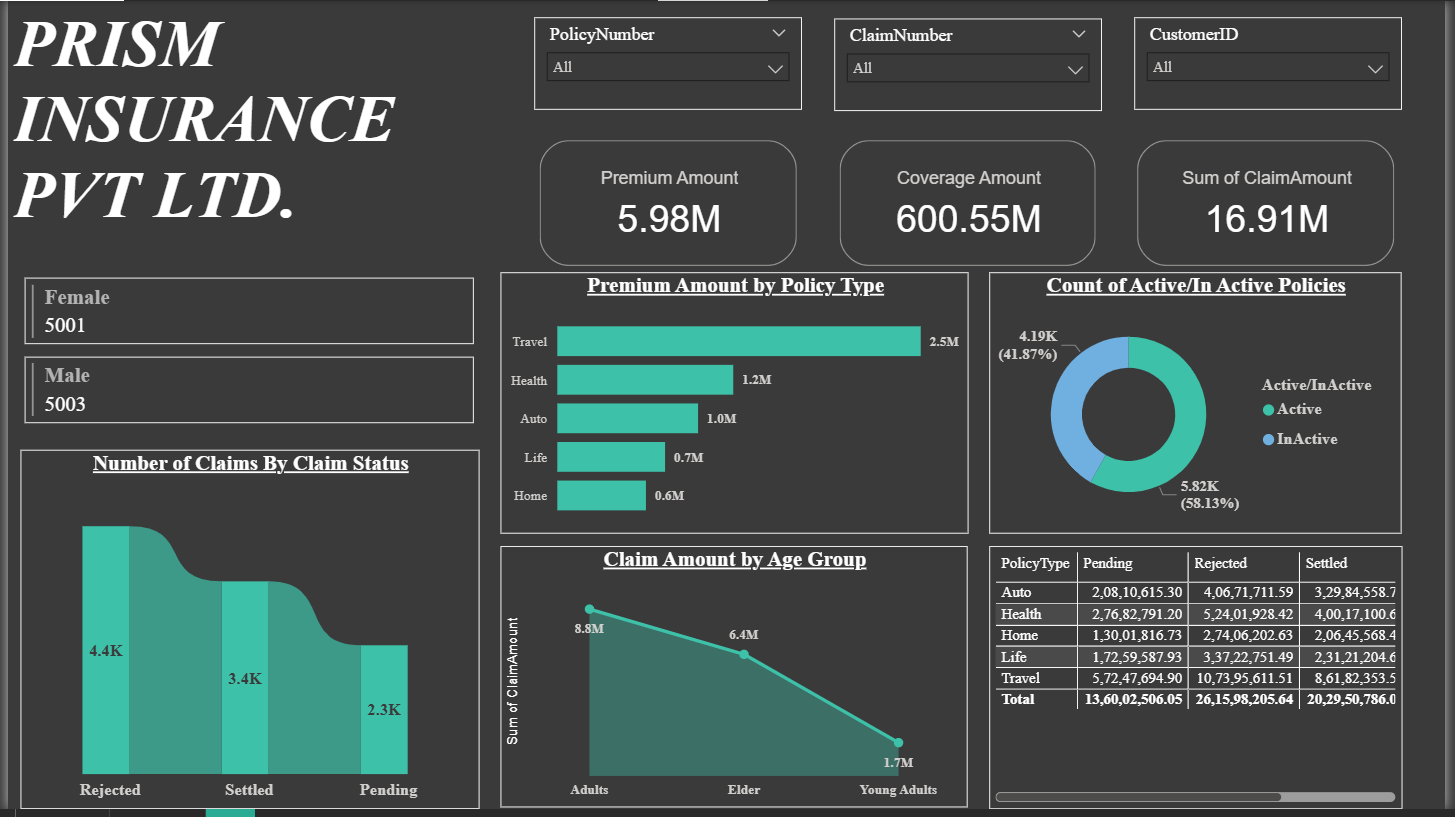

Layout of this report page (visuals, bound fields, positions):
{"tool":"powerbi","page":{"name":"Page 1","canvas":[1280,720],"ordinal":0},"visuals":[{"type":"slicer","fields":{"Values":["InsuranceData.PolicyNumber"]},"box":[468.7,14.7,238,82.2],"z":0},{"type":"slicer","fields":{"Values":["InsuranceData.ClaimNumber"]},"box":[736.2,16,238,82.2],"z":1000},{"type":"slicer","fields":{"Values":["InsuranceData.CustomerID"]},"box":[1002.5,14.7,238,82.2],"z":2000},{"type":"textbox","box":[0,0,438,213.5],"z":3000},{"type":"cardVisual","fields":{"Data":["Sum(InsuranceData.PremiumAmount)"]},"box":[468.7,119,239.3,122.7],"z":4000},{"type":"cardVisual","fields":{"Data":["Sum(InsuranceData.CoverageAmount)"]},"box":[736.2,119,238,122.7],"z":5000},{"type":"cardVisual","fields":{"Data":["Sum(InsuranceData.ClaimAmount)"]},"box":[1001.2,119,239.3,122.7],"z":6000},{"type":"multiRowCard","fields":{"Values":["InsuranceData.Gender","CountNonNull(InsuranceData.Gender)"]},"box":[9.8,241.7,409.8,158.3],"z":7000},{"type":"ribbonChart","title":"Number of Claims By Claim Status","fields":{"Category":["InsuranceData.ClaimStatus"],"Y":["CountNonNull(InsuranceData.ClaimStatus)"]},"box":[11,400,408.6,320.2],"z":8000},{"type":"barChart","title":"Premium Amount by Policy Type","fields":{"Category":["InsuranceData.PolicyType"],"Y":["Sum(InsuranceData.PremiumAmount)"]},"box":[438,241.7,417.2,233.1],"z":9000},{"type":"lineChart","title":"Claim Amount by Age Group","fields":{"Category":["InsuranceData.Age Group"],"Y":["Sum(InsuranceData.ClaimAmount)"]},"box":[438,485.9,416,233.1],"z":10000},{"type":"donutChart","title":"Count of Active/In Active Policies","fields":{"Category":["InsuranceData.Active/InActive"],"Y":["CountNonNull(InsuranceData.Active/InActive)"]},"box":[873.6,241.7,366.9,233.1],"z":11000},{"type":"pivotTable","fields":{"Values":["Sum(InsuranceData.CoverageAmount)"],"Rows":["InsuranceData.PolicyType"],"Columns":["InsuranceData.ClaimStatus"]},"box":[873.6,485.9,368.1,234.4],"z":11001}]}

Visuals, with their boxes in screenshot pixels (x1, y1, x2, y2), scaled from the page's 1280x720 canvas onto the 1455x817 screenshot:
slicer - InsuranceData.PolicyNumber: [x1=533, y1=17, x2=803, y2=110]
slicer - InsuranceData.ClaimNumber: [x1=837, y1=18, x2=1107, y2=111]
slicer - InsuranceData.CustomerID: [x1=1140, y1=17, x2=1410, y2=110]
textbox: [x1=0, y1=0, x2=498, y2=242]
cardVisual - Sum(InsuranceData.PremiumAmount): [x1=533, y1=135, x2=805, y2=274]
cardVisual - Sum(InsuranceData.CoverageAmount): [x1=837, y1=135, x2=1107, y2=274]
cardVisual - Sum(InsuranceData.ClaimAmount): [x1=1138, y1=135, x2=1410, y2=274]
multiRowCard - InsuranceData.Gender x CountNonNull(InsuranceData.Gender): [x1=11, y1=274, x2=477, y2=454]
"Number of Claims By Claim Status" ribbonChart: [x1=13, y1=454, x2=477, y2=816]
"Premium Amount by Policy Type" barChart: [x1=498, y1=274, x2=972, y2=539]
"Claim Amount by Age Group" lineChart: [x1=498, y1=551, x2=971, y2=816]
"Count of Active/In Active Policies" donutChart: [x1=993, y1=274, x2=1410, y2=539]
pivotTable - Sum(InsuranceData.CoverageAmount) x InsuranceData.PolicyType: [x1=993, y1=551, x2=1411, y2=816]
